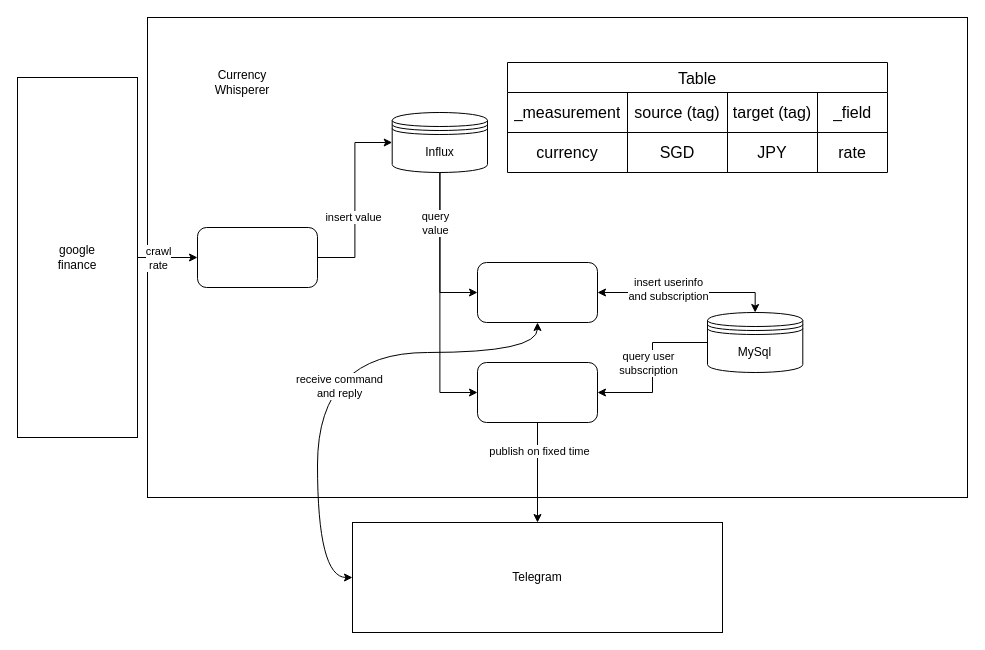
This 985x650 diagram has some shape labels left out. The centre of each missing label's shape, as x and y in pixels:
"crawler.py" goes at [257,257].
"notifier.py" goes at [537,392].
"tukar_wang_bot.py" goes at [537,292].
